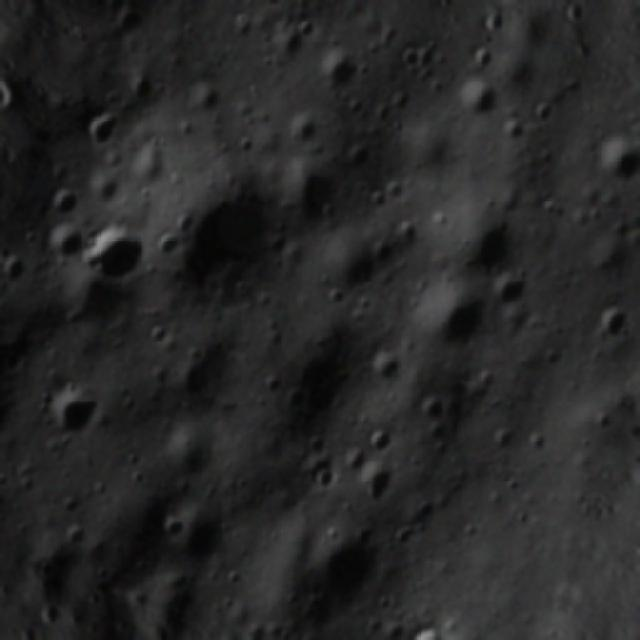crater: (160, 172, 288, 319), (294, 527, 384, 611), (167, 328, 250, 410), (422, 284, 500, 362), (80, 219, 155, 293), (450, 209, 525, 283), (37, 373, 111, 445), (483, 256, 549, 327), (280, 162, 346, 230), (575, 294, 640, 358), (587, 123, 640, 191), (309, 44, 369, 104), (448, 70, 504, 125), (354, 457, 404, 515), (39, 211, 92, 264), (182, 70, 236, 121), (80, 102, 128, 156), (120, 59, 165, 113), (49, 512, 102, 556), (44, 185, 88, 226), (303, 462, 346, 502), (286, 9, 325, 46), (158, 508, 193, 546), (401, 620, 459, 640), (363, 428, 395, 460), (249, 0, 296, 17)
